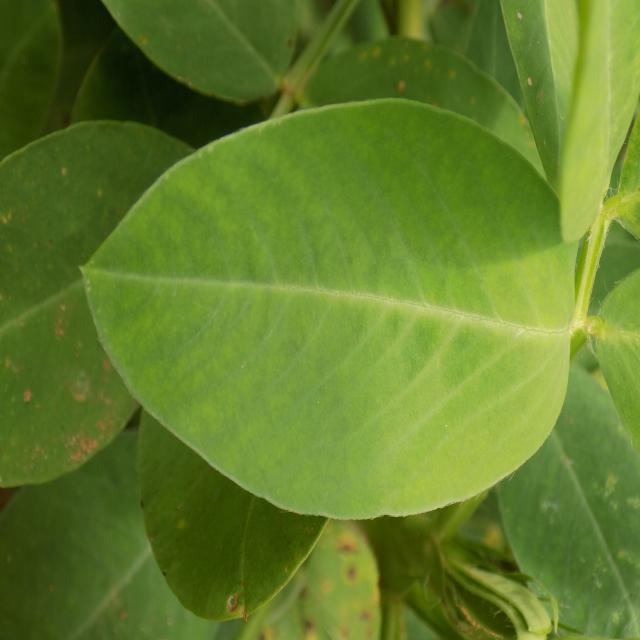Ground nut_healthy: (90, 100, 576, 518)
